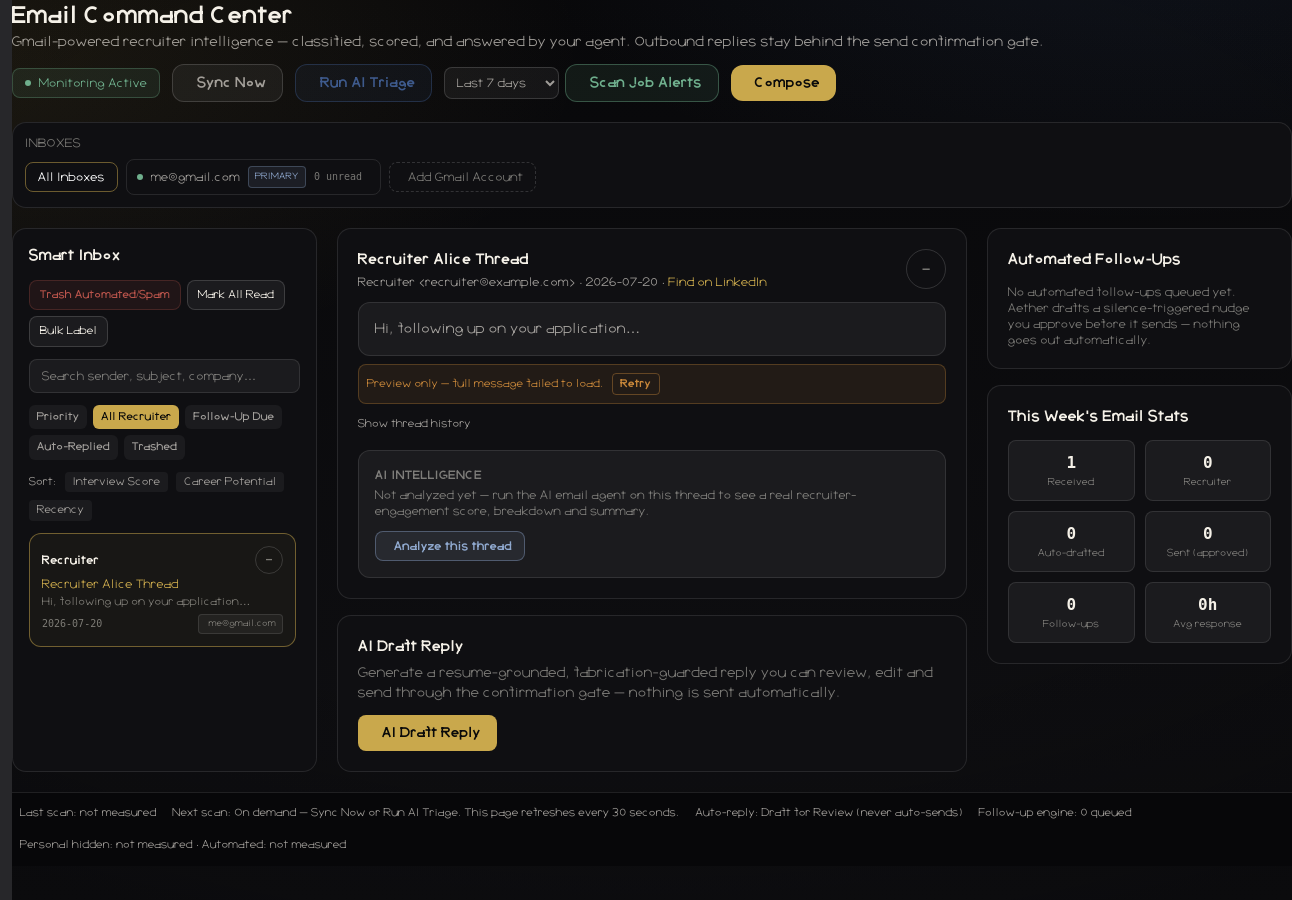
Test case: MF-1: email detail panel honest full-body loading › reproPathB — a missing/failed full-body fetch shows an honest, labeled retry state, never a silent snippet
The width and height of the screenshot is (1292, 900).
Expected: the message with test id "email-body-error" shows "Preview only", [367,378,604,388]
Expected: the message with test id "email-body-error" shows "failed to load", [367,378,604,388]
Click the button with test id "retry-full-body" at (636, 384), box [612,372,660,395]
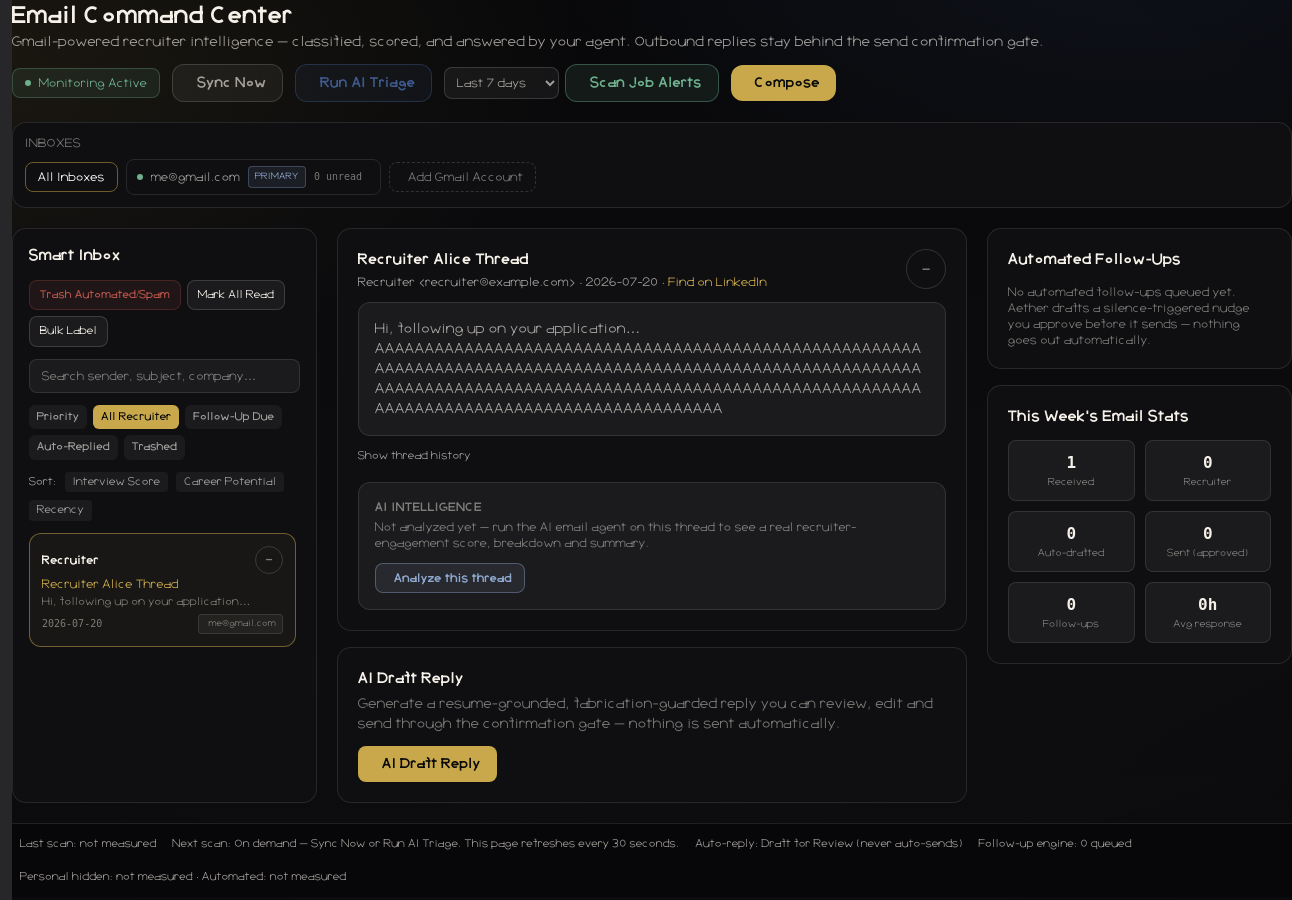
Expected: the message with test id "email-body-error" is gone
